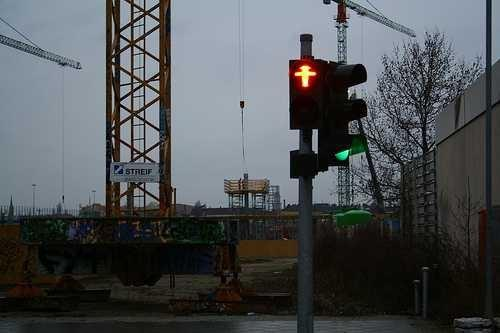green: (325, 56, 366, 172)
red: (286, 62, 321, 91)
